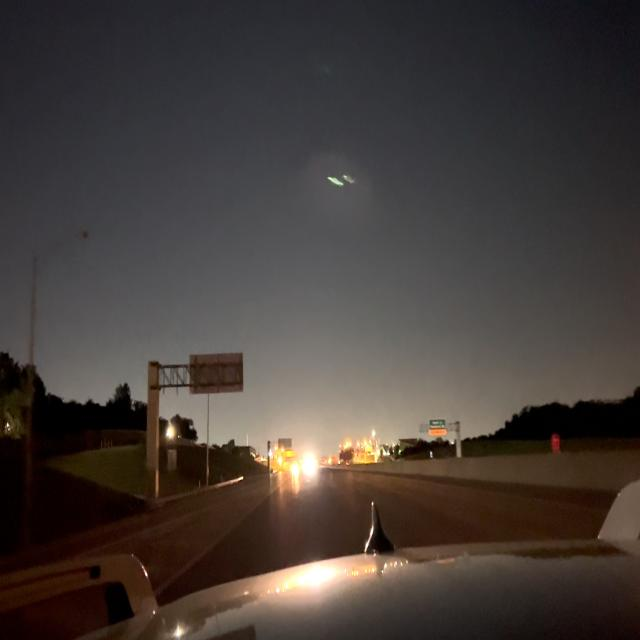back-of-sign: (190, 355, 243, 394), (168, 449, 176, 471)
